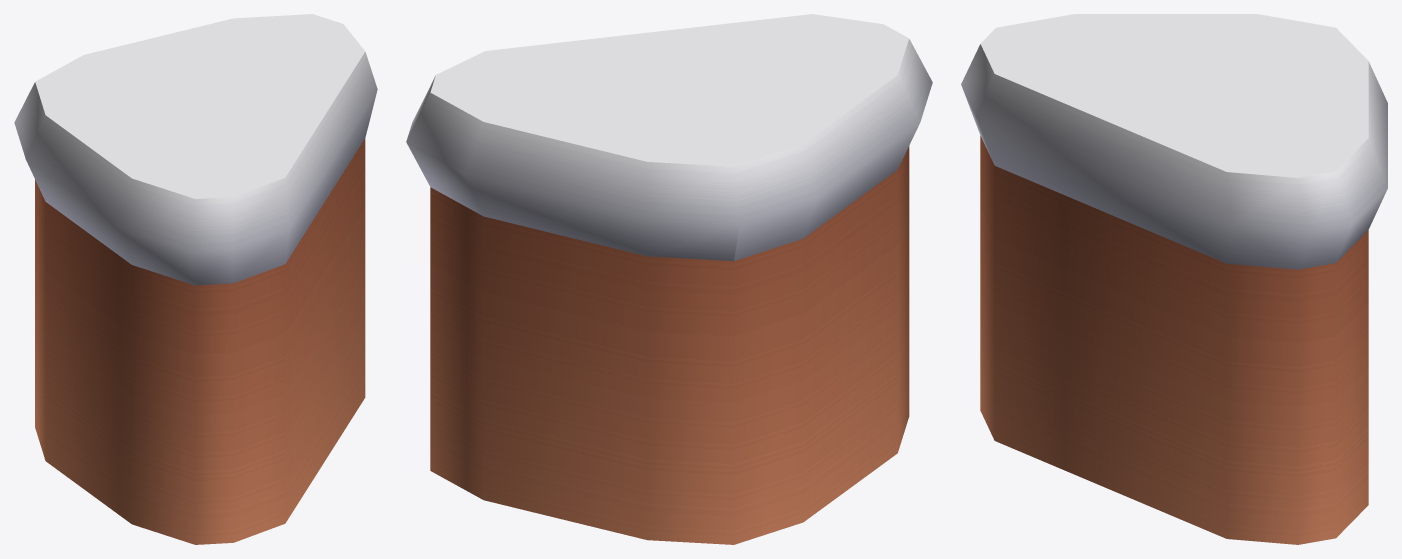
File: block-snow-corner.glb
3 views of the same model, side by side, from view 1: azimuth 30°, elevation 25°; view 2: azimuth 150°, elevation 25°; view 3: azimuth 270°, elevation 25° (orthographic). The views are drawn at different scales.
Parts seen in each view (by area): view 1: block-snow-corner; view 2: block-snow-corner; view 3: block-snow-corner.
Part boxes in pixels (x1,y1,x2,y2): block-snow-corner: (14, 14, 377, 544); block-snow-corner: (406, 14, 932, 544); block-snow-corner: (961, 14, 1387, 544).
Bounding box in the file's own units: 1.05 × 1 × 1.05.
Materials: 1 (1 with a texture image).
